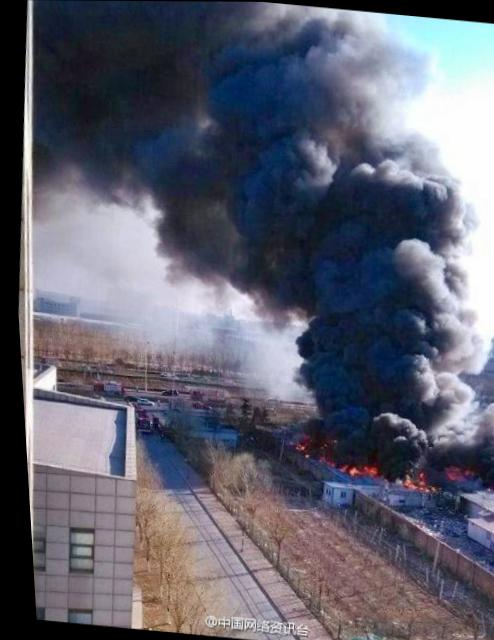fire: (335, 461, 371, 477), (408, 469, 423, 488), (393, 472, 406, 489)
